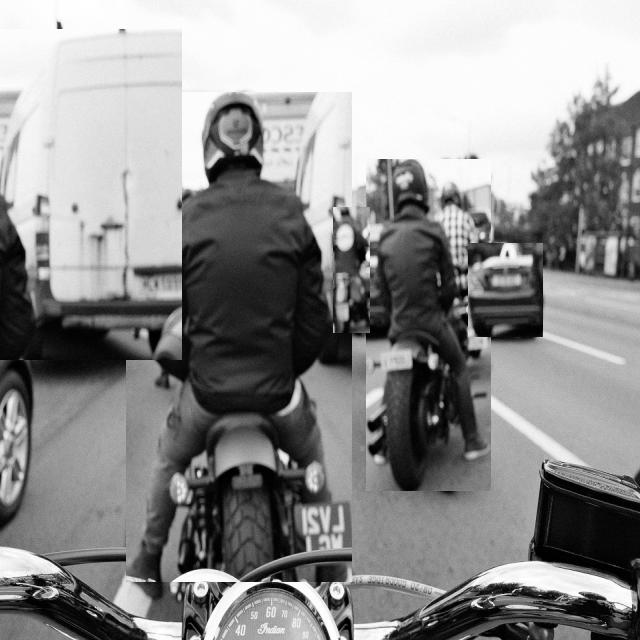car: (469, 243, 543, 337)
motorcycle: (126, 92, 352, 582), (366, 160, 491, 491), (334, 208, 370, 333)
truck: (0, 30, 182, 360)
